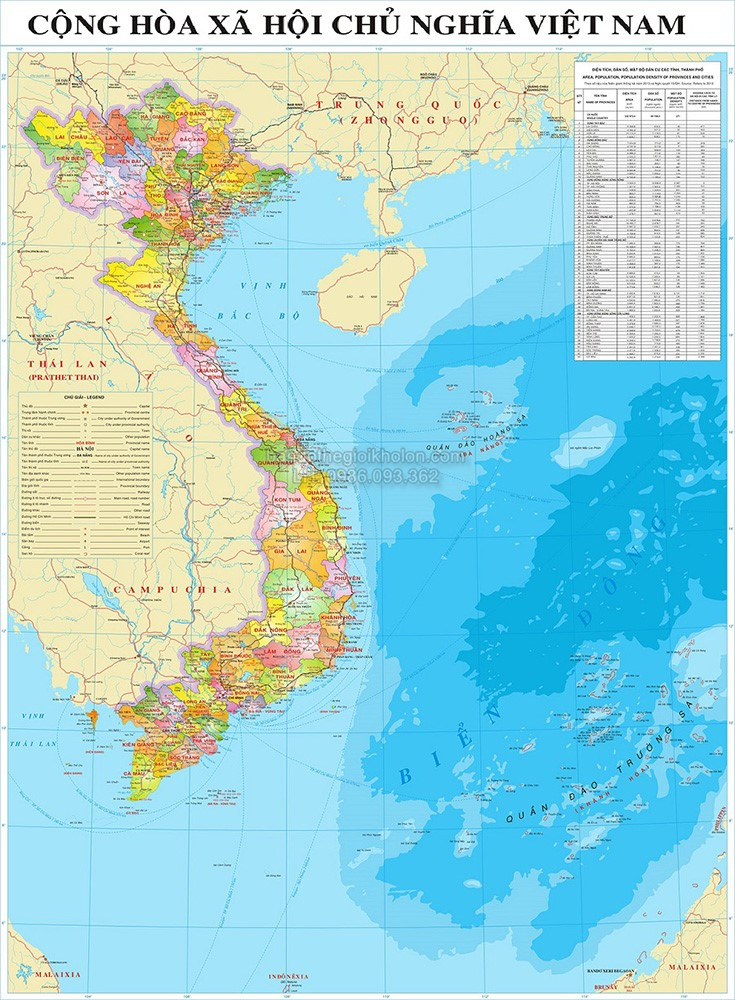Island: (475, 636, 720, 856), (422, 374, 540, 483)
